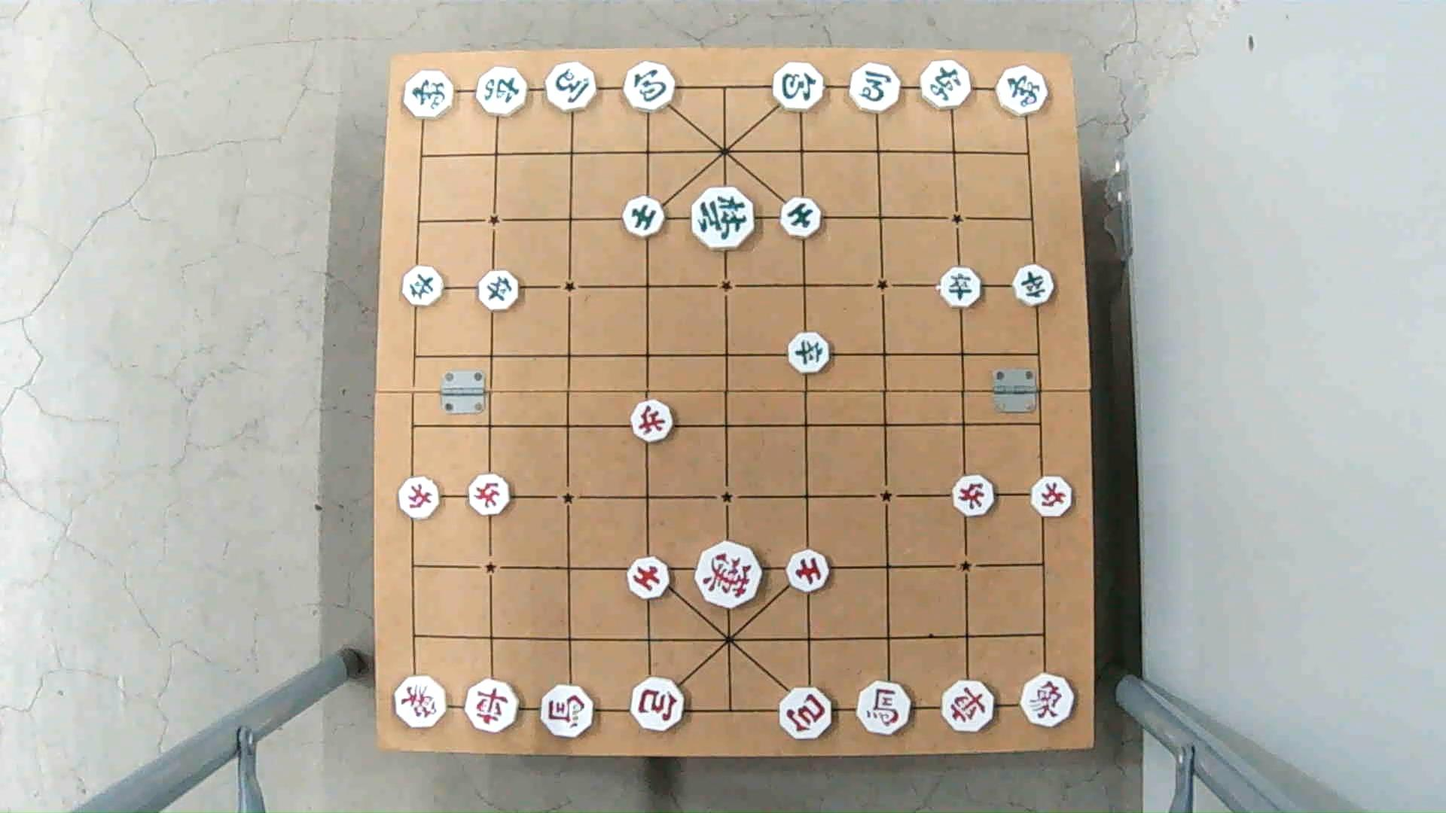cha_green: (473, 69, 530, 114), (920, 63, 975, 108)
cha_red: (465, 682, 519, 732), (941, 684, 996, 732)
jol_green: (785, 330, 833, 373), (937, 269, 984, 306), (1011, 266, 1057, 303), (477, 273, 525, 308), (401, 272, 447, 306)
jol_red: (466, 477, 516, 514), (949, 477, 997, 515), (629, 405, 676, 443), (1027, 479, 1075, 516), (396, 479, 444, 516)
ma_green: (545, 65, 602, 110), (847, 67, 903, 111)
ma_red: (853, 685, 916, 732), (538, 687, 597, 735)
po_green: (623, 65, 682, 110), (770, 67, 830, 110)
po_red: (627, 682, 687, 730), (777, 691, 837, 738)
sa_green: (779, 202, 828, 238), (618, 201, 667, 236)
sa_red: (786, 552, 831, 595), (628, 558, 673, 600)
sang_green: (400, 73, 456, 119), (995, 69, 1049, 114)
sang_red: (395, 673, 447, 726), (1020, 678, 1074, 726)
wang_green: (688, 190, 758, 245)
wang_red: (693, 544, 762, 603)
